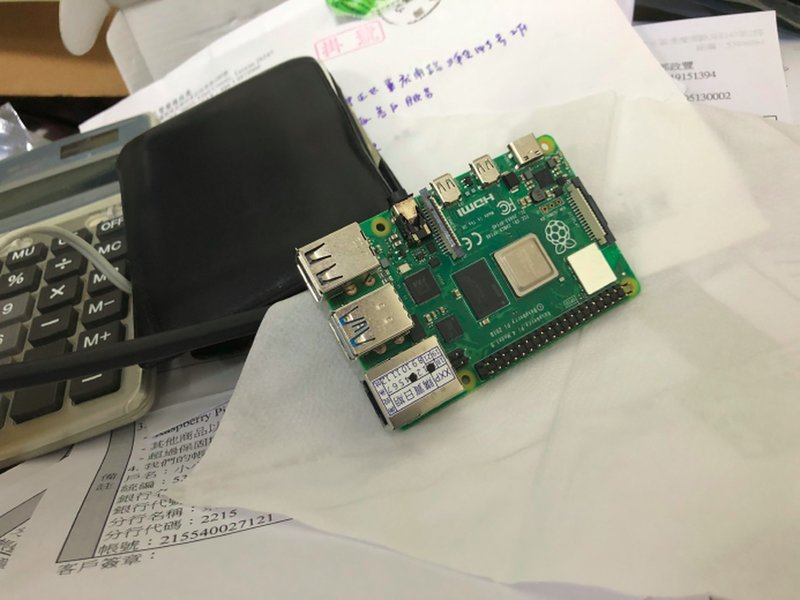pi: (289, 127, 645, 438)
